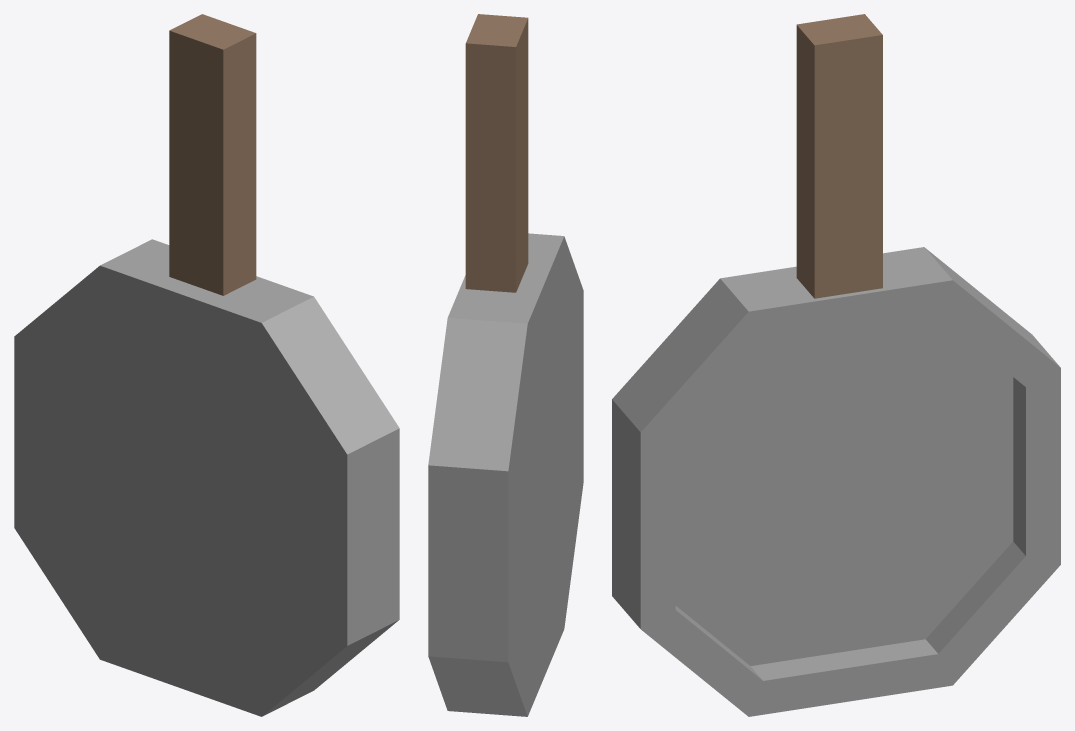
The model's file is Pan.fbx.
3 renders of one model, left to right at view 1: azimuth 30°, elevation 25°; view 2: azimuth 150°, elevation 25°; view 3: azimuth 270°, elevation 25°, orthographic. The views are drawn at different scales.
Parts seen in each view (by area): view 1: Pan4; view 2: Pan4; view 3: Pan4.
Boxes of the visible parts, x1,y1,x2,y2 form: Pan4: (14, 14, 399, 716); Pan4: (428, 14, 583, 716); Pan4: (612, 14, 1060, 716).
Size of the model in its own units: 12.44 by 39 by 24.09.
